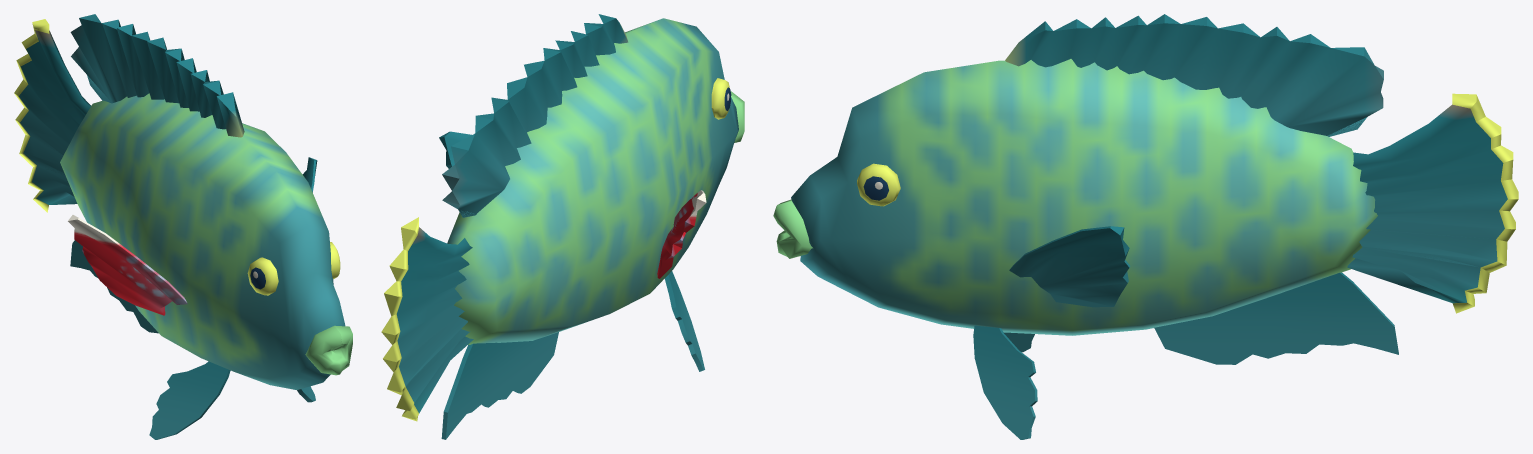
3 views of the same model, side by side, from view 1: azimuth 30°, elevation 25°; view 2: azimuth 150°, elevation 25°; view 3: azimuth 270°, elevation 25° (orthographic). The views are drawn at different scales.
Parts seen in each view (by area): view 1: Fish_NapoleonWrasse; view 2: Fish_NapoleonWrasse; view 3: Fish_NapoleonWrasse.
Part boxes in pixels (left/top/right/bottom): Fish_NapoleonWrasse: left=14, top=14, right=352, bottom=439; Fish_NapoleonWrasse: left=381, top=14, right=744, bottom=439; Fish_NapoleonWrasse: left=773, top=14, right=1518, bottom=439.
Size of the model in its own units: 36.57 by 45.61 by 81.61.
